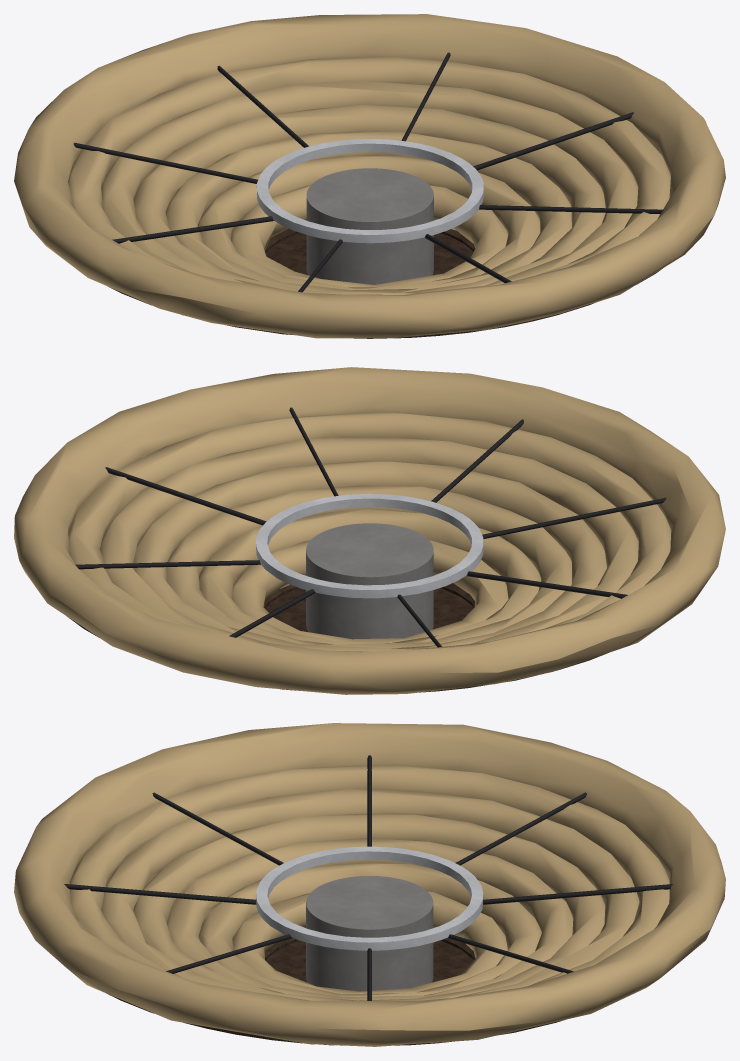
The model's file is stage06_hiad_xl_deployed.glb.
The picture shows the model from 3 angles, top to bottom: view 1: azimuth 30°, elevation 25°; view 2: azimuth 150°, elevation 25°; view 3: azimuth 270°, elevation 25°; orthographic projection.
Parts seen in each view (by area): view 1: tori, centre_body, mount_ring, nose_cap, flexible_tps, strap_3, strap_7, strap_0, strap_4, strap_2, strap_6; view 2: tori, centre_body, mount_ring, nose_cap, strap_5, strap_1, strap_0, strap_4, flexible_tps, strap_6, strap_2; view 3: tori, centre_body, mount_ring, nose_cap, strap_6, strap_2, flexible_tps, strap_5, strap_3, strap_1, strap_7.
Part boxes in pixels (x1,y1,x2,y2): tori: (14,14,725,338); centre_body: (306,168,433,284); mount_ring: (256,139,483,243); nose_cap: (265,233,473,275); flexible_tps: (109,228,662,338); strap_3: (73,142,257,183); strap_7: (479,205,663,214); strap_0: (473,112,633,170); strap_4: (112,216,274,243); strap_2: (217,65,308,147); strap_6: (424,234,511,283); tori: (14,367,725,694); centre_body: (306,523,433,639); mount_ring: (256,493,483,598); nose_cap: (265,588,473,632); strap_5: (482,497,666,538); strap_1: (75,560,260,569); strap_0: (105,467,266,525); strap_4: (466,571,627,598); flexible_tps: (68,583,605,692); strap_6: (431,419,523,502); strap_2: (229,589,315,637); tori: (14,723,725,1046); centre_body: (306,876,433,991); mount_ring: (256,846,483,950); nose_cap: (266,940,473,982); strap_6: (64,884,256,904); strap_2: (483,884,672,904); flexible_tps: (108,938,564,1045); strap_5: (152,792,283,865); strap_3: (455,792,586,865); strap_1: (447,934,573,973); strap_7: (166,934,292,973).
Size of the model in its own units: 15.61 by 3.45 by 15.67.
Materials: 5 (3 with a texture image).
